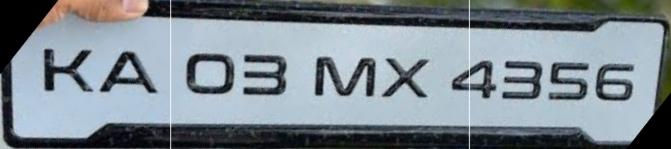0: (181, 49, 237, 98)
3: (495, 49, 545, 105), (239, 52, 289, 101)
4: (449, 49, 500, 104)
5: (546, 56, 592, 104)
6: (596, 57, 636, 109)
A: (99, 43, 166, 101)
K: (37, 42, 97, 104)
M: (313, 49, 380, 101)
X: (381, 52, 430, 104)
